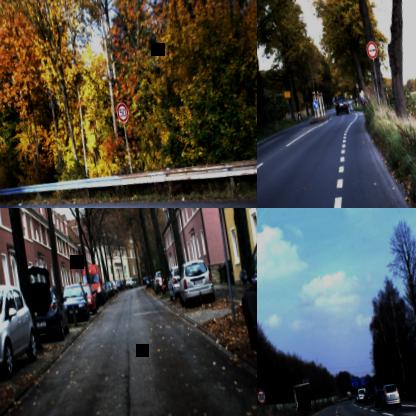keep right: (311, 98, 319, 110)
no overtaking (trucks): (365, 40, 378, 60)
speed limit 100: (257, 387, 267, 405)
speed limit 50: (115, 101, 129, 122)
